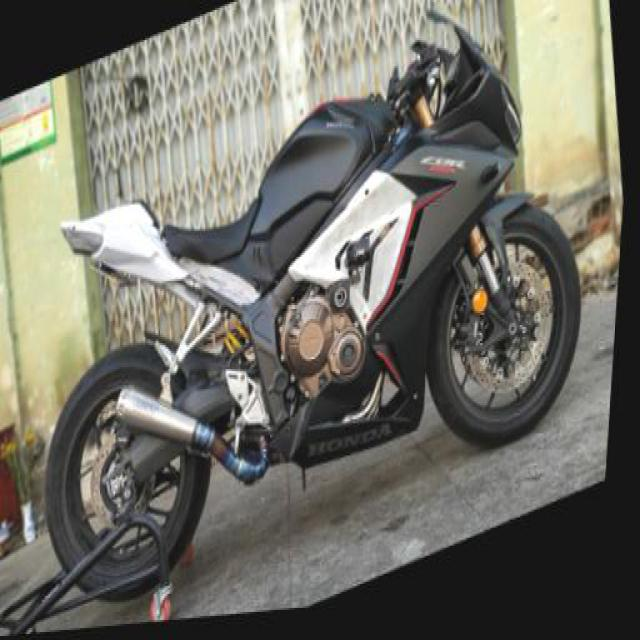CBR650R: (2, 0, 618, 636)
